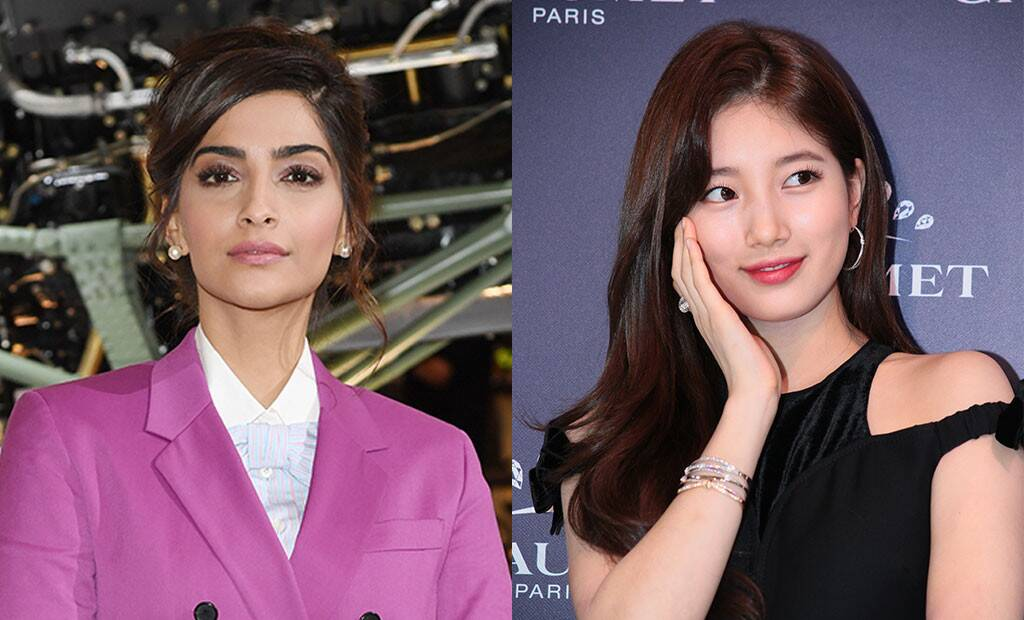bare: (176, 200, 352, 311), (680, 212, 867, 315)
